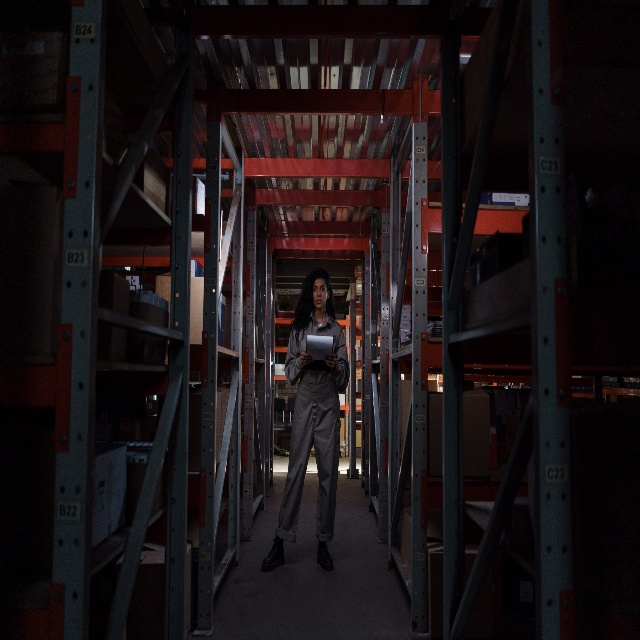Sin_guantes: (323, 351, 336, 369), (301, 350, 314, 367)
